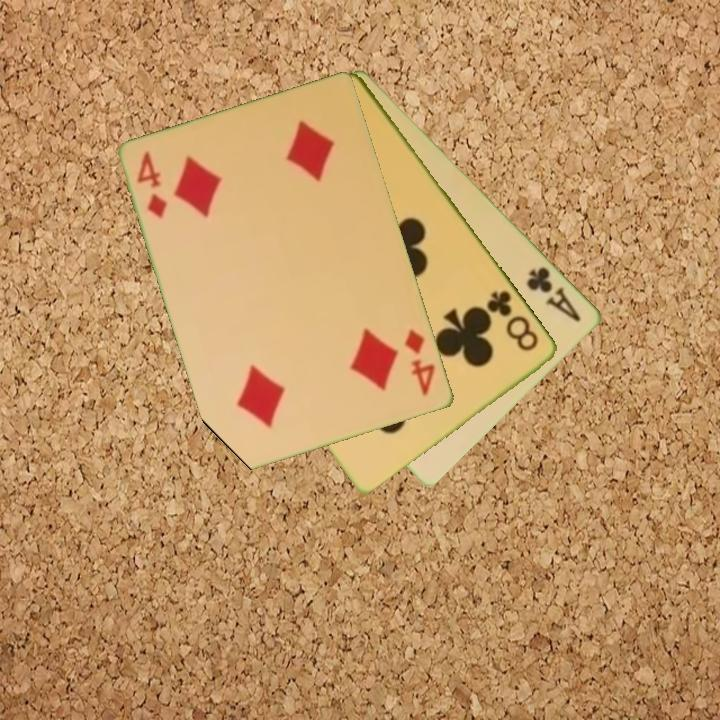4d: (401, 326, 439, 399), (133, 148, 171, 221)
8c: (483, 287, 542, 355)
Ac: (523, 263, 585, 325)
